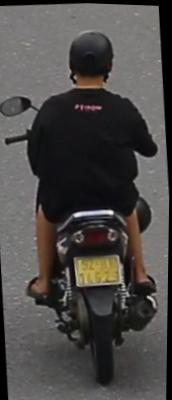LP: (73, 249, 125, 289)
helmet: (62, 27, 118, 98)
